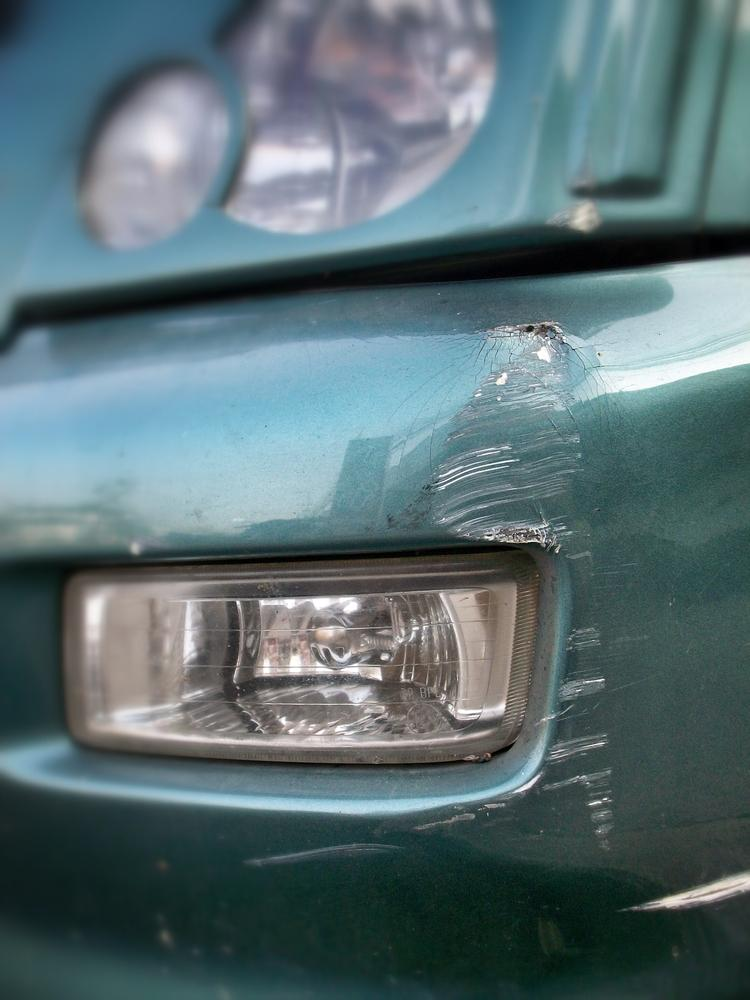scratch: (261, 316, 617, 872)
